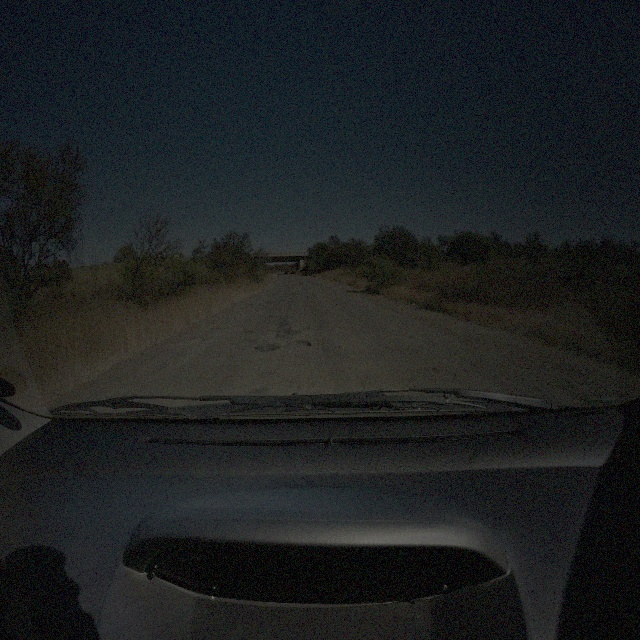pothole: (174, 334, 206, 346), (286, 338, 310, 348), (266, 312, 287, 321), (240, 328, 254, 334)
